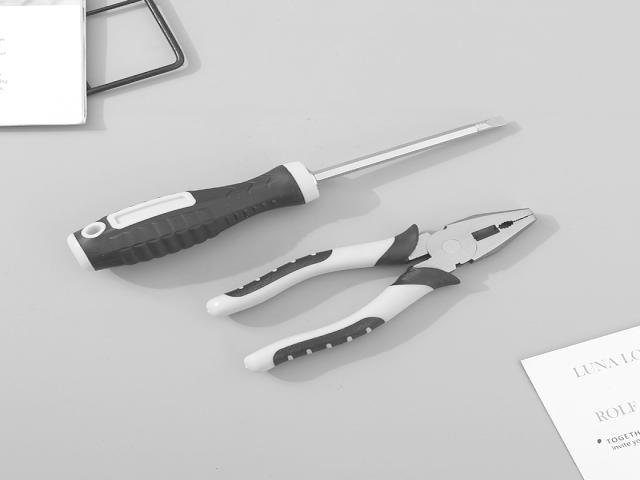Pliers: (208, 208, 536, 372)
Screwdriver: (68, 116, 505, 270)
